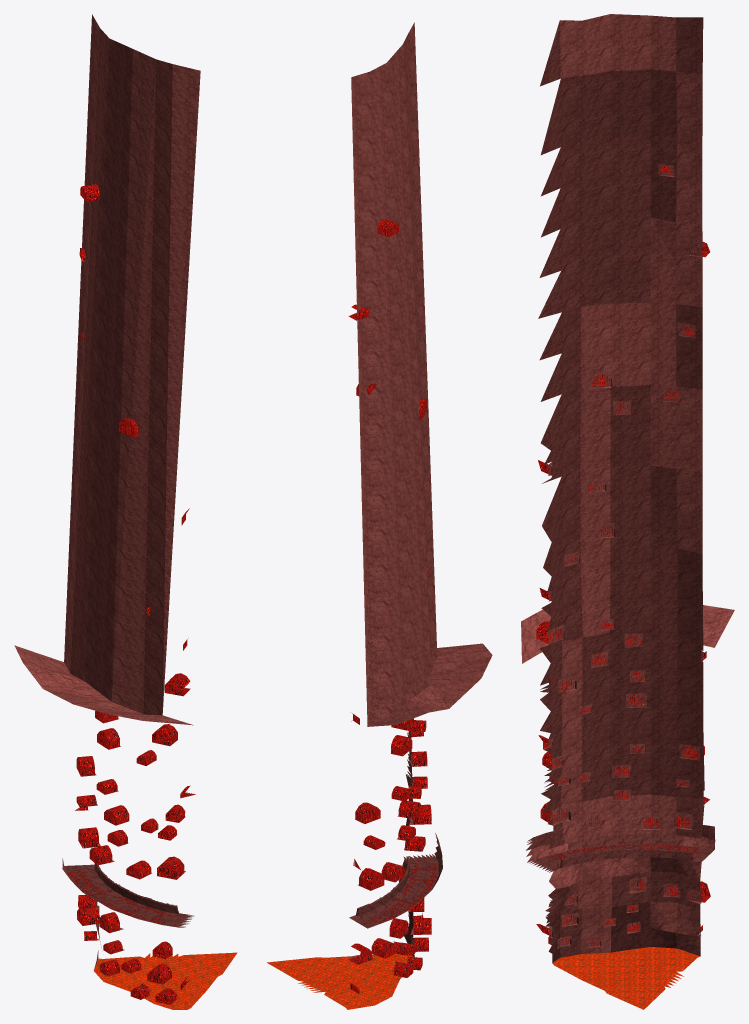
Rendered from map_base_s3.glb.
3 renders of one model, left to right at view 1: azimuth 30°, elevation 25°; view 2: azimuth 150°, elevation 25°; view 3: azimuth 270°, elevation 25°, orthographic.
Visible parts, largest first — view 1: MapBaseS3Rock; view 2: MapBaseS3Rock; view 3: MapBaseS3Rock.
Boxes of the visible parts, bbox=[...] form: MapBaseS3Rock: bbox=[14, 14, 237, 1009]; MapBaseS3Rock: bbox=[267, 22, 492, 1009]; MapBaseS3Rock: bbox=[521, 14, 734, 1009].
Size of what is drawn, in the model's own units: 72.21 by 342 by 70.74.
Materials: 6 (6 with a texture image).
